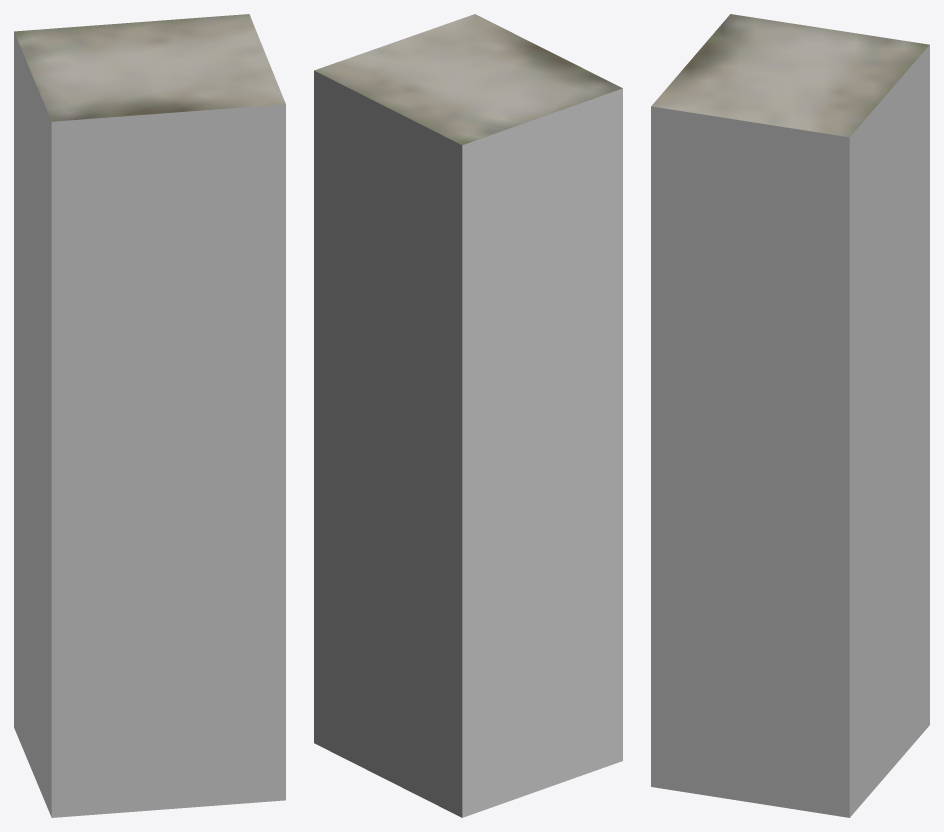
The model's file is DEBW_0010007Txd7.gltf.
3 renders of one model, left to right at view 1: azimuth 30°, elevation 25°; view 2: azimuth 150°, elevation 25°; view 3: azimuth 270°, elevation 25°, orthographic. The views are drawn at different scales.
Visible parts, largest first — view 1: Z_UP; view 2: Z_UP; view 3: Z_UP.
Boxes of the visible parts, x1,y1,x2,y2 form: Z_UP: (14, 14, 285, 817); Z_UP: (314, 14, 622, 817); Z_UP: (651, 14, 929, 817).
Bounding box in the file's own units: 3.5 × 9 × 3.34.
2 materials, 1 textured.
